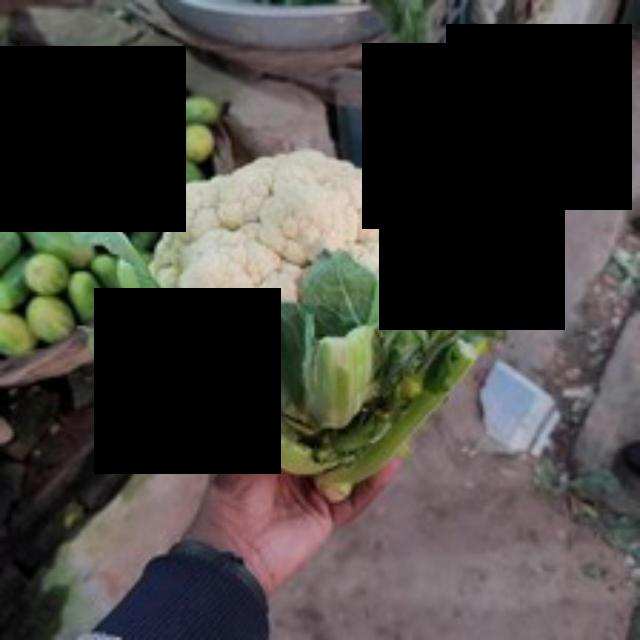cauliflower: (148, 130, 505, 409)
